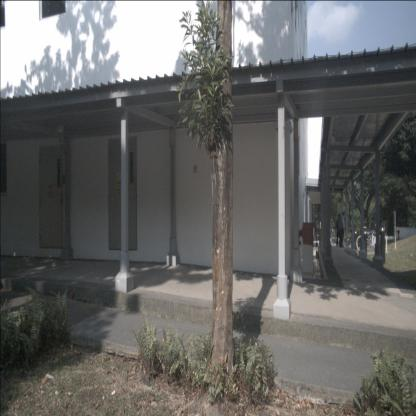human-pedestrian-adult: (338, 212, 346, 247), (335, 213, 342, 247)
